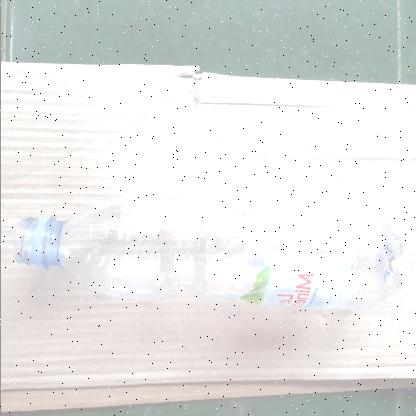Plastic Bottle: (11, 199, 399, 309)
